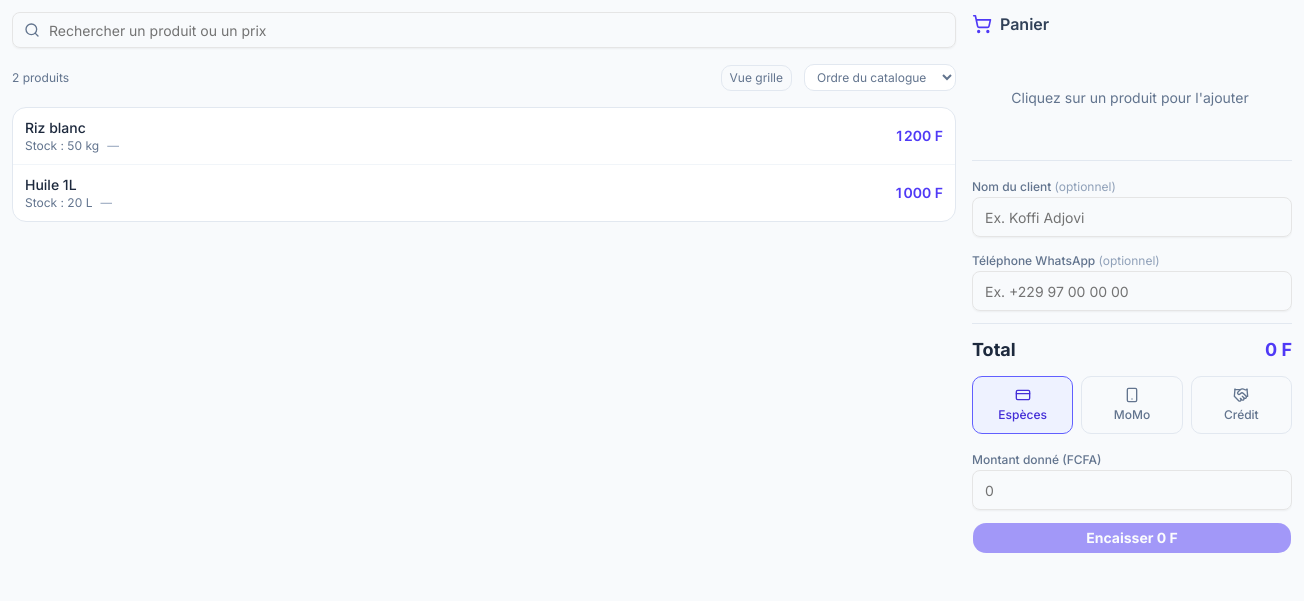
Test: POS — la quantité se saisit avec une virgule › le champ accepte la virgule sans la vider
Click the text "Riz blanc". click: (55, 128)
box: [25,119,86,136]
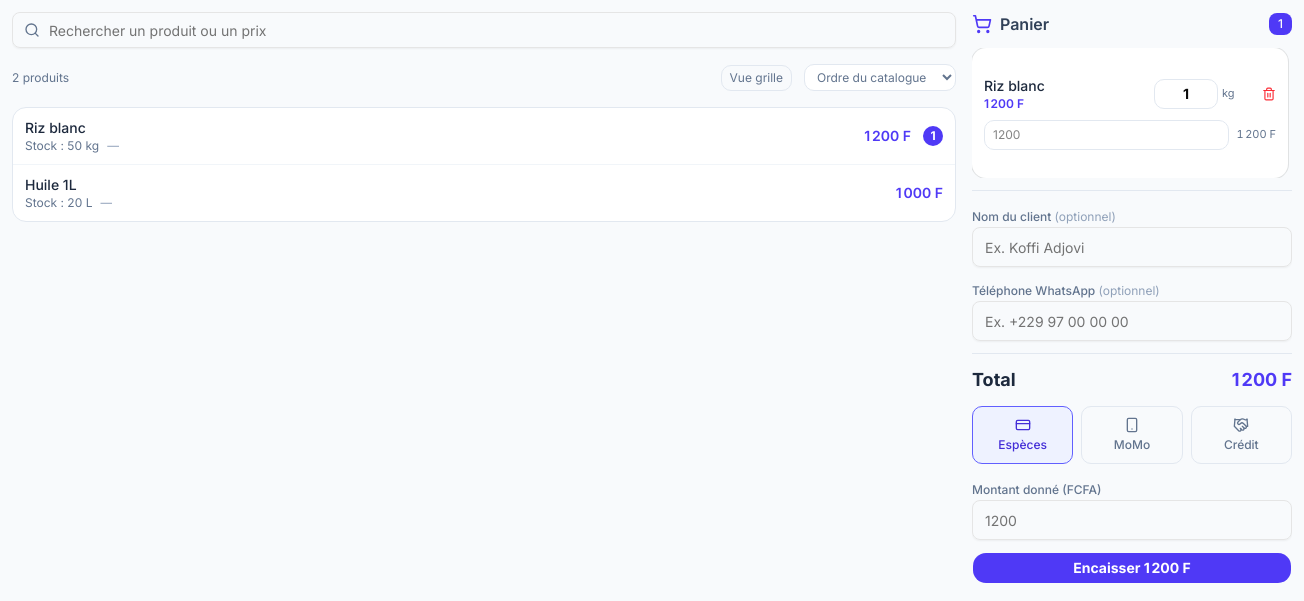
Replace the text in the field named "Quantité pour Riz blanc" with "2,5". click: (1186, 94)
box: [1154,79,1218,109]
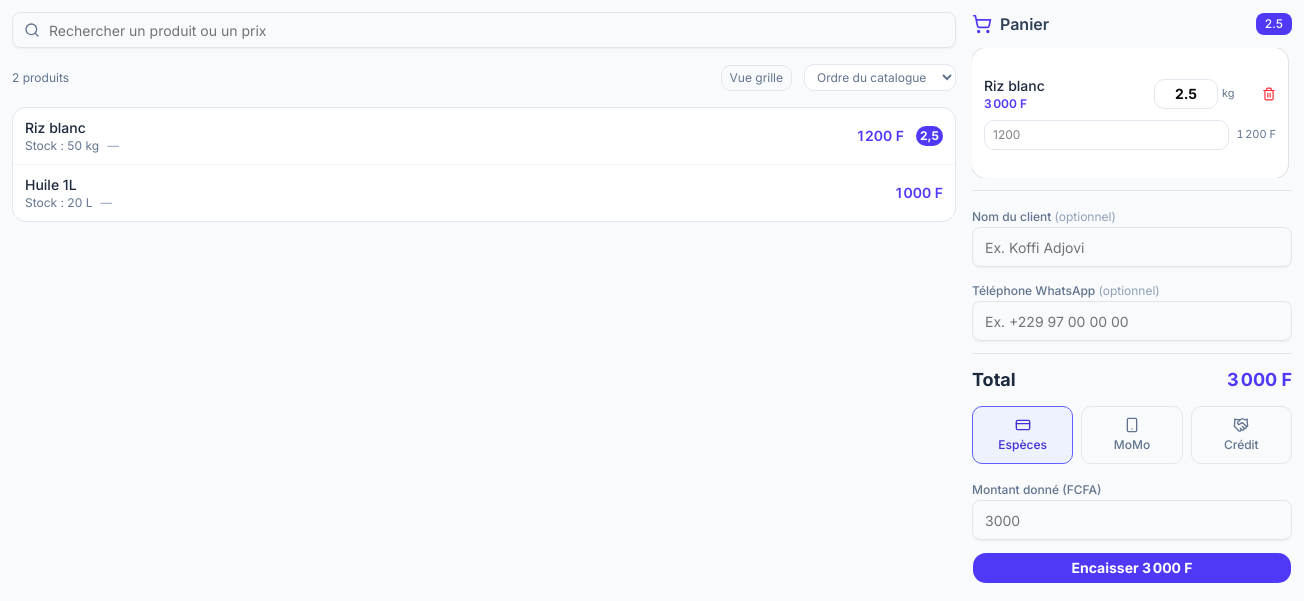
Now the button "Encaisser 3 000 F" is shown, box [972,552,1292,584]
